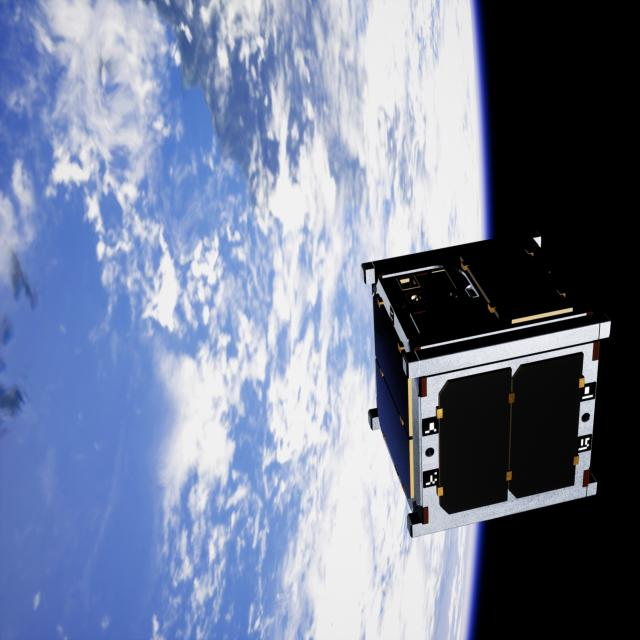satellite: (360, 223, 620, 542)
